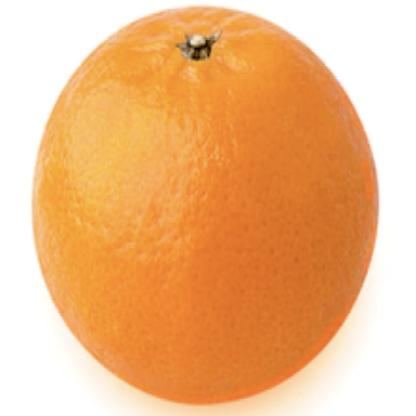fresh: (32, 5, 383, 402)
